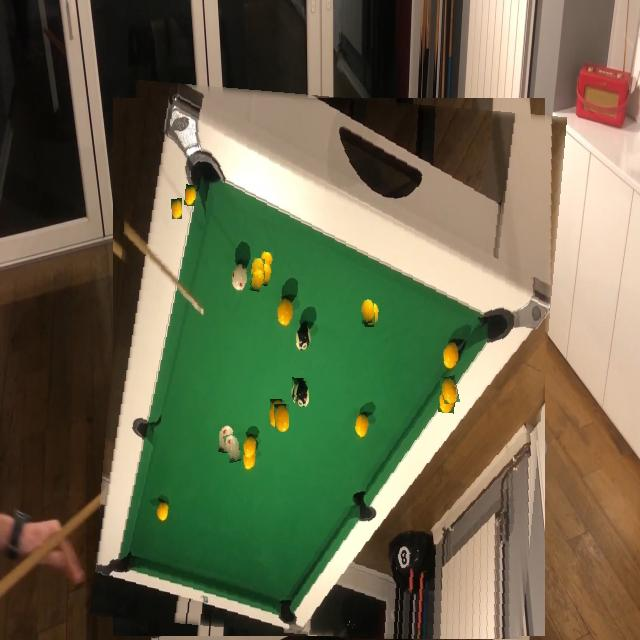Ball: (224, 434, 242, 463), (441, 376, 459, 403), (274, 404, 289, 432), (294, 381, 309, 407), (360, 300, 375, 324), (250, 270, 265, 292), (251, 258, 265, 275), (171, 198, 182, 219)
Billiard table: (101, 89, 556, 640)
